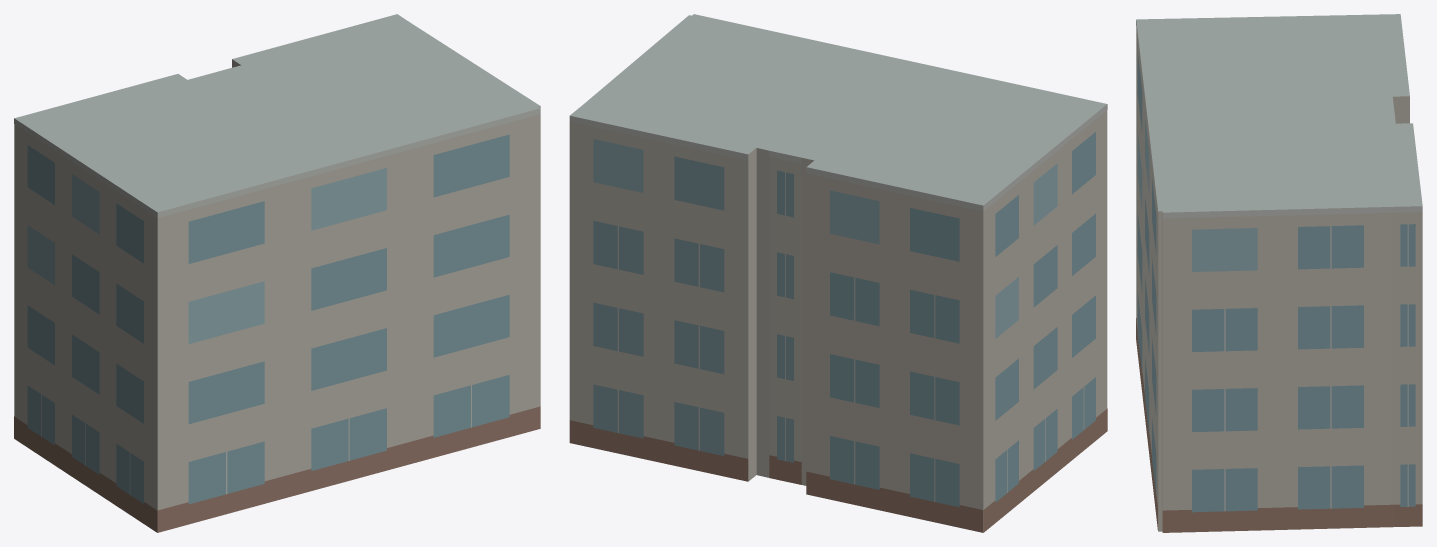
File: survey-upis-32625389.glb
The picture shows the model from 3 angles, left to right: view 1: azimuth 30°, elevation 25°; view 2: azimuth 150°, elevation 25°; view 3: azimuth 270°, elevation 25°; orthographic projection. The views are drawn at different scales.
Parts seen in each view (by area): view 1: survey-upis-32625389.tmp; view 2: survey-upis-32625389.tmp; view 3: survey-upis-32625389.tmp.
Boxes of the visible parts, bbox=[...] form: survey-upis-32625389.tmp: bbox=[14, 14, 540, 532]; survey-upis-32625389.tmp: bbox=[569, 14, 1107, 532]; survey-upis-32625389.tmp: bbox=[1136, 14, 1422, 532].
Size of the model in its own units: 17.76 by 13.34 by 10.83.
